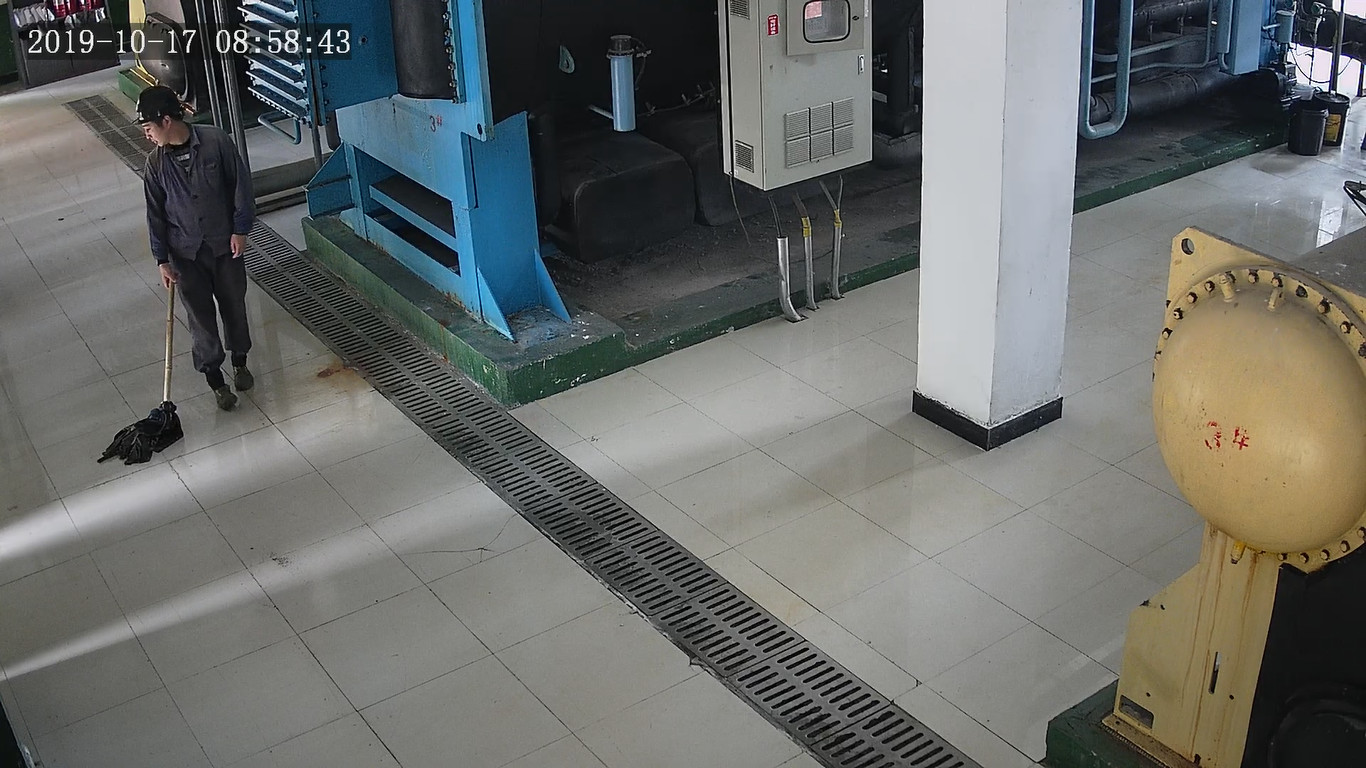helmet: (129, 84, 183, 124)
